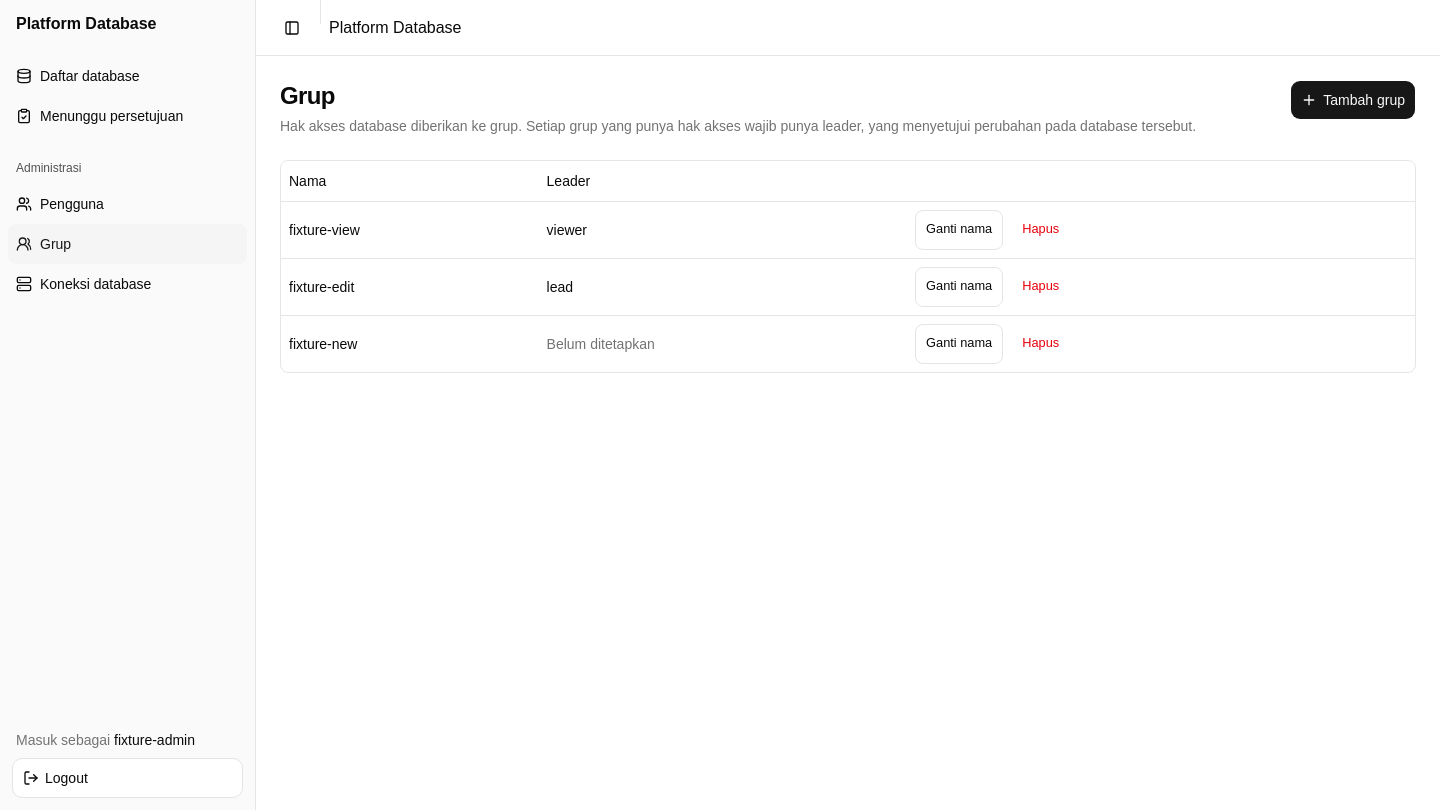
Test: group administration › lists groups with their leader and opens one
expect the text "Belum ditetapkan" is shown: met, box [547,336,655,352]
Click the link "fixture-view" at (324, 230), box [289,222,360,238]
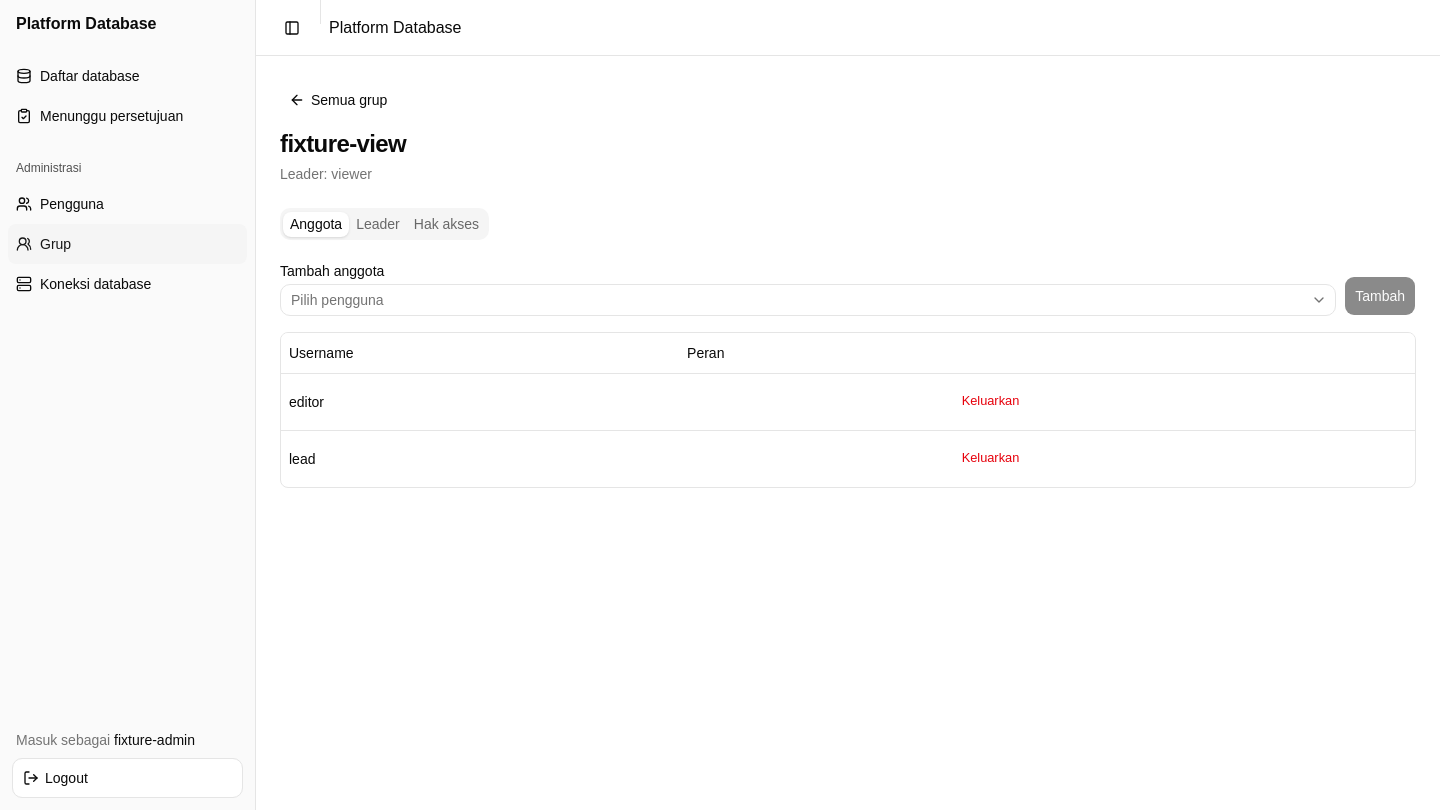
expect the heading "fixture-view" is shown: met, box [280,128,406,160]
